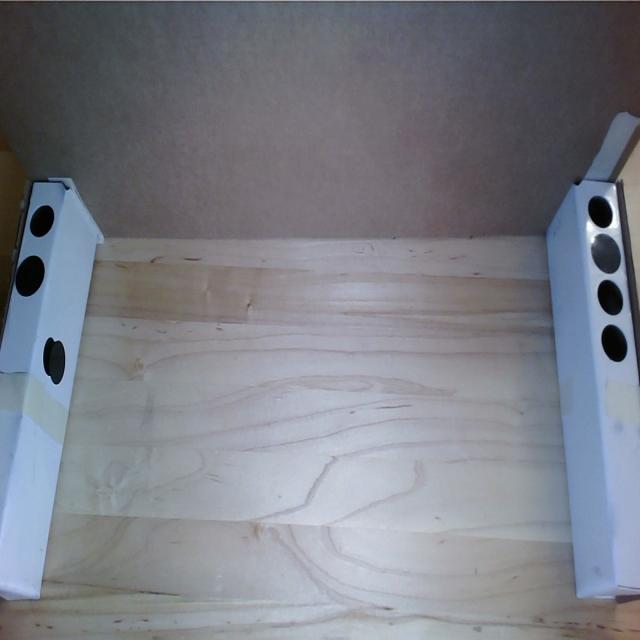Hole: (601, 324, 629, 365), (596, 278, 624, 318), (30, 202, 56, 240), (588, 191, 613, 229), (43, 338, 56, 376)
Sticker: (14, 248, 46, 298), (591, 232, 624, 275), (50, 340, 66, 384)
